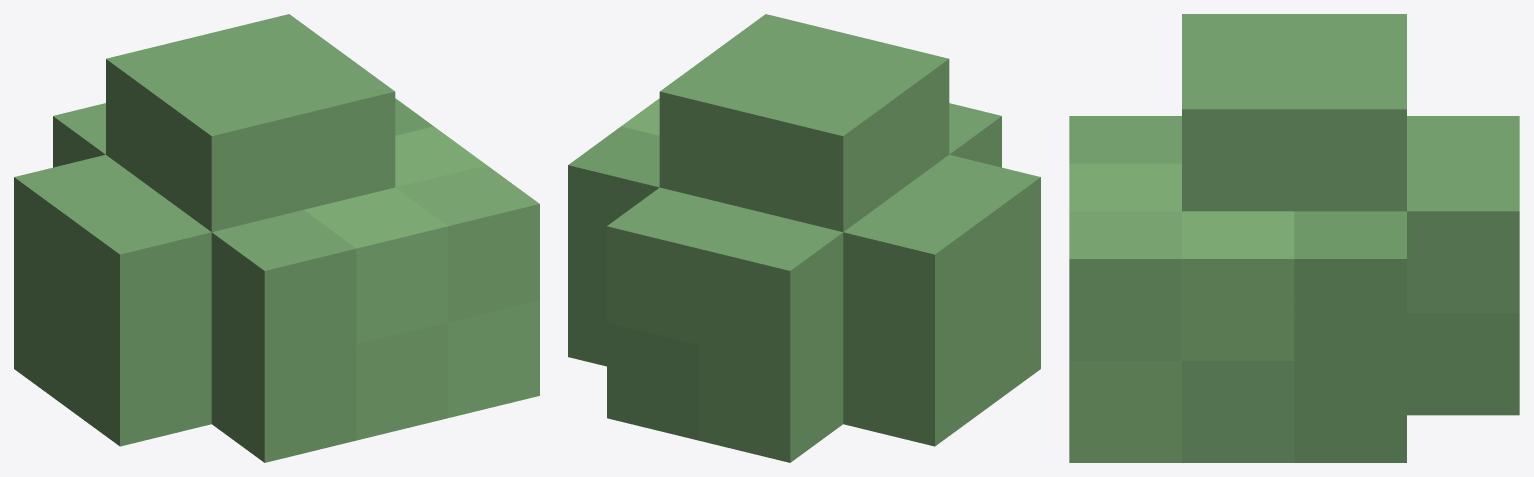
The model's file is buisson_petit_0.glb.
3 renders of one model, left to right at view 1: azimuth 30°, elevation 25°; view 2: azimuth 150°, elevation 25°; view 3: azimuth 270°, elevation 25°, orthographic. The views are drawn at different scales.
Parts seen in each view (by area): view 1: geometry_0; view 2: geometry_0; view 3: geometry_0.
Part boxes in pixels (box(x1,y1,x2,y2)): geometry_0: box(14, 14, 539, 462); geometry_0: box(568, 14, 1040, 462); geometry_0: box(1069, 14, 1519, 462).
Bounding box in the file's own units: 1 × 0.75 × 1.
